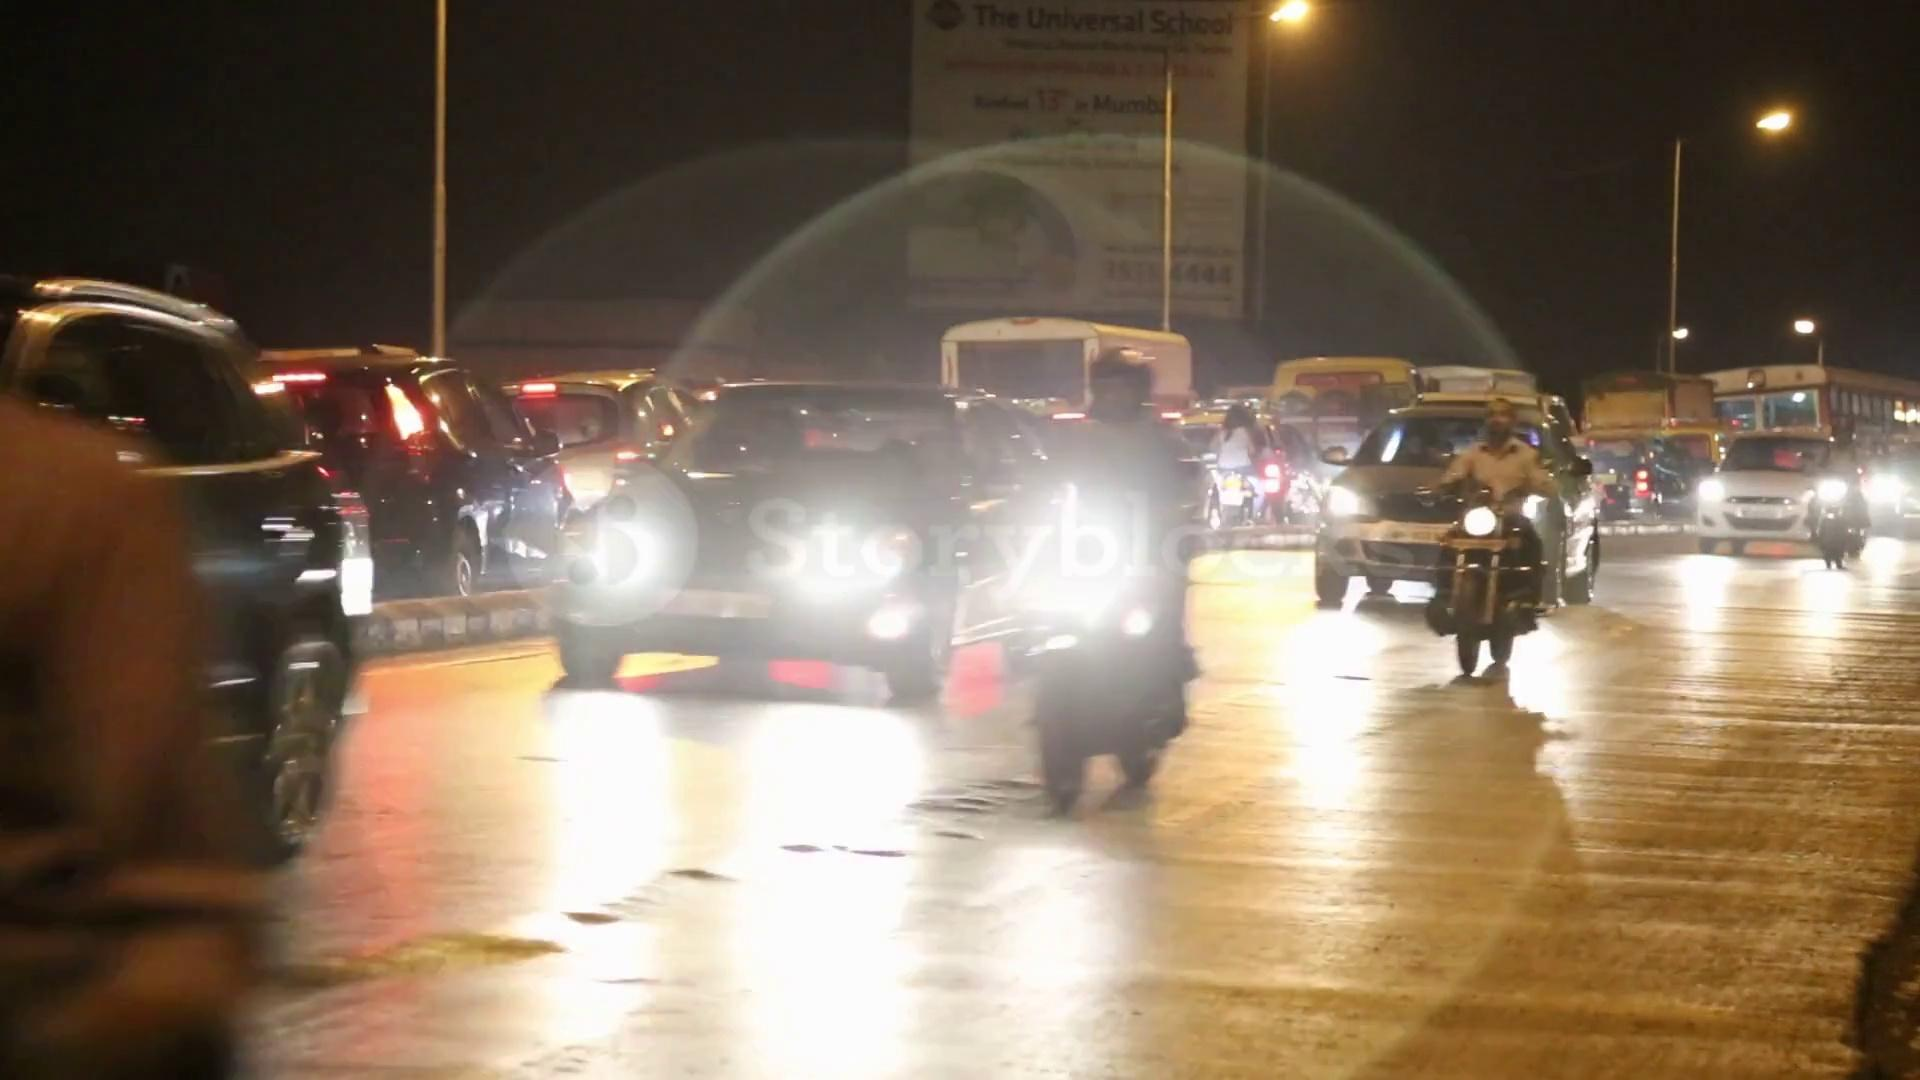rider: (1025, 347, 1200, 818), (1423, 397, 1559, 675), (1804, 406, 1870, 573)
with_helmate: (1076, 354, 1161, 419)
without_helmate: (1477, 394, 1519, 441)
